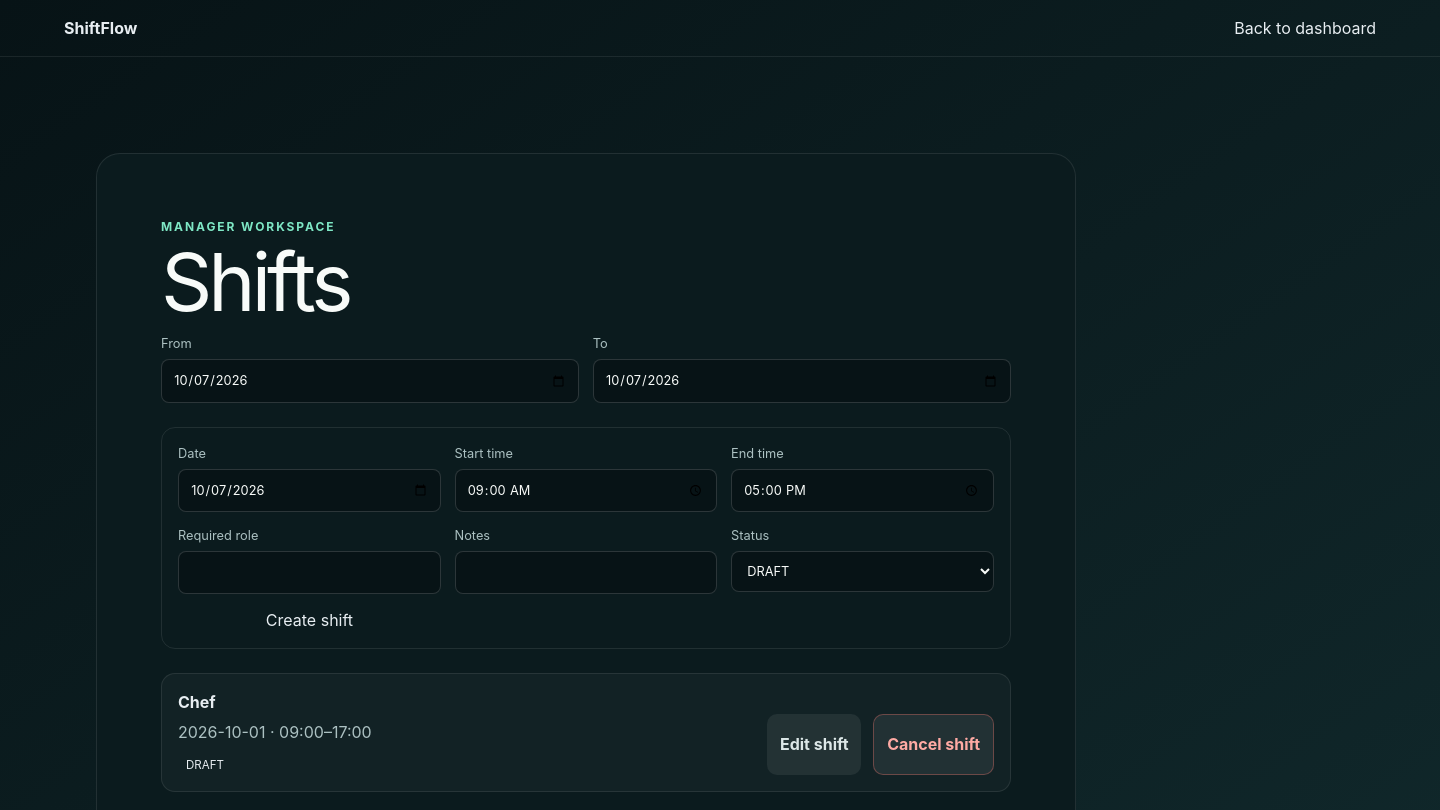
Scenario: shift UI › lets a manager list, create, edit, and cancel shifts
The image size is (1440, 810).
Expected: the heading "Shifts" is shown, [161, 233, 350, 330]
Expected: the text "Chef" is shown, [178, 692, 216, 712]
Type "Supervisor" into the field labelled "Required role".
click(309, 572); type("Supervisor")  # box [178, 551, 441, 594]
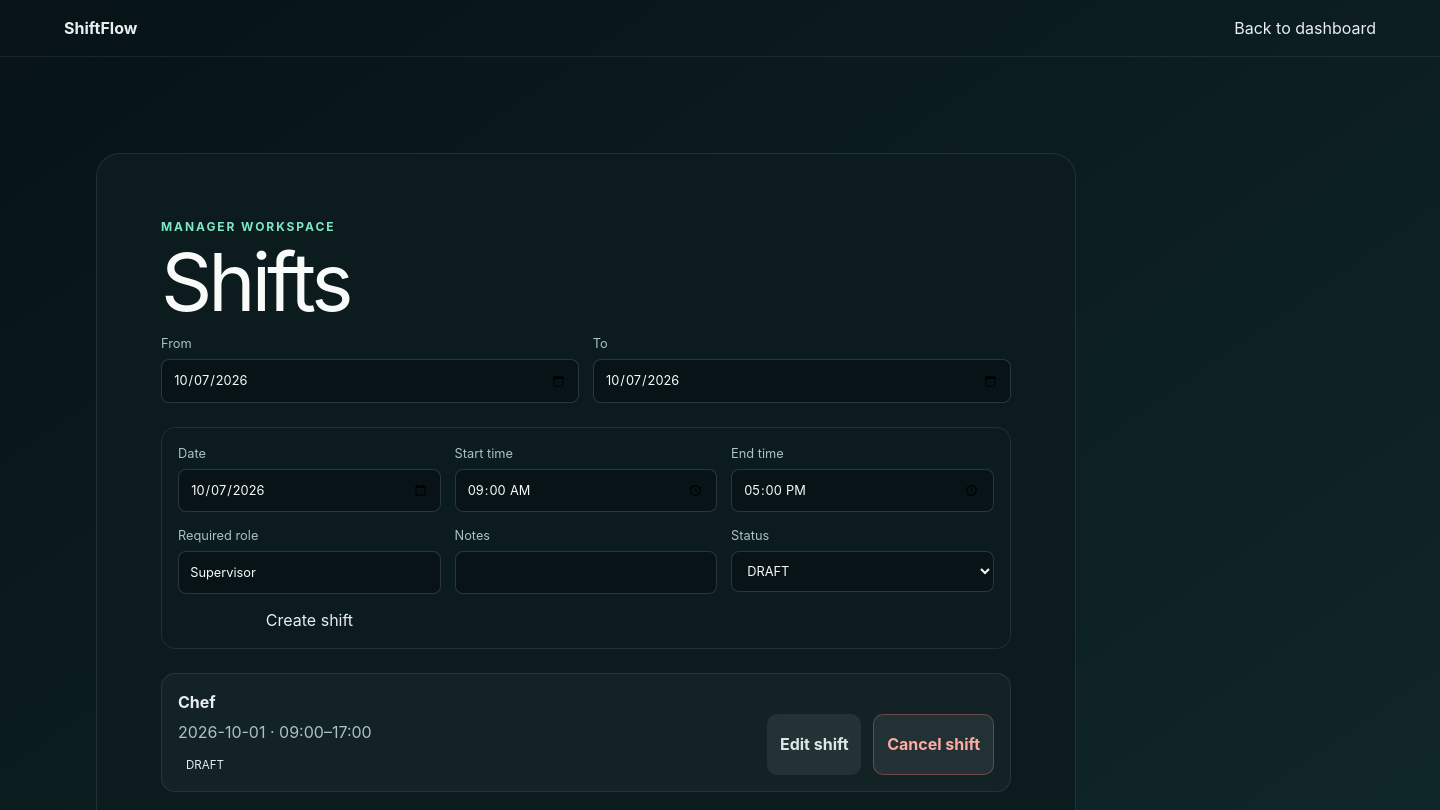
Click the button "Create shift".
click(309, 620)  # box [178, 608, 441, 632]
(page scrolled)
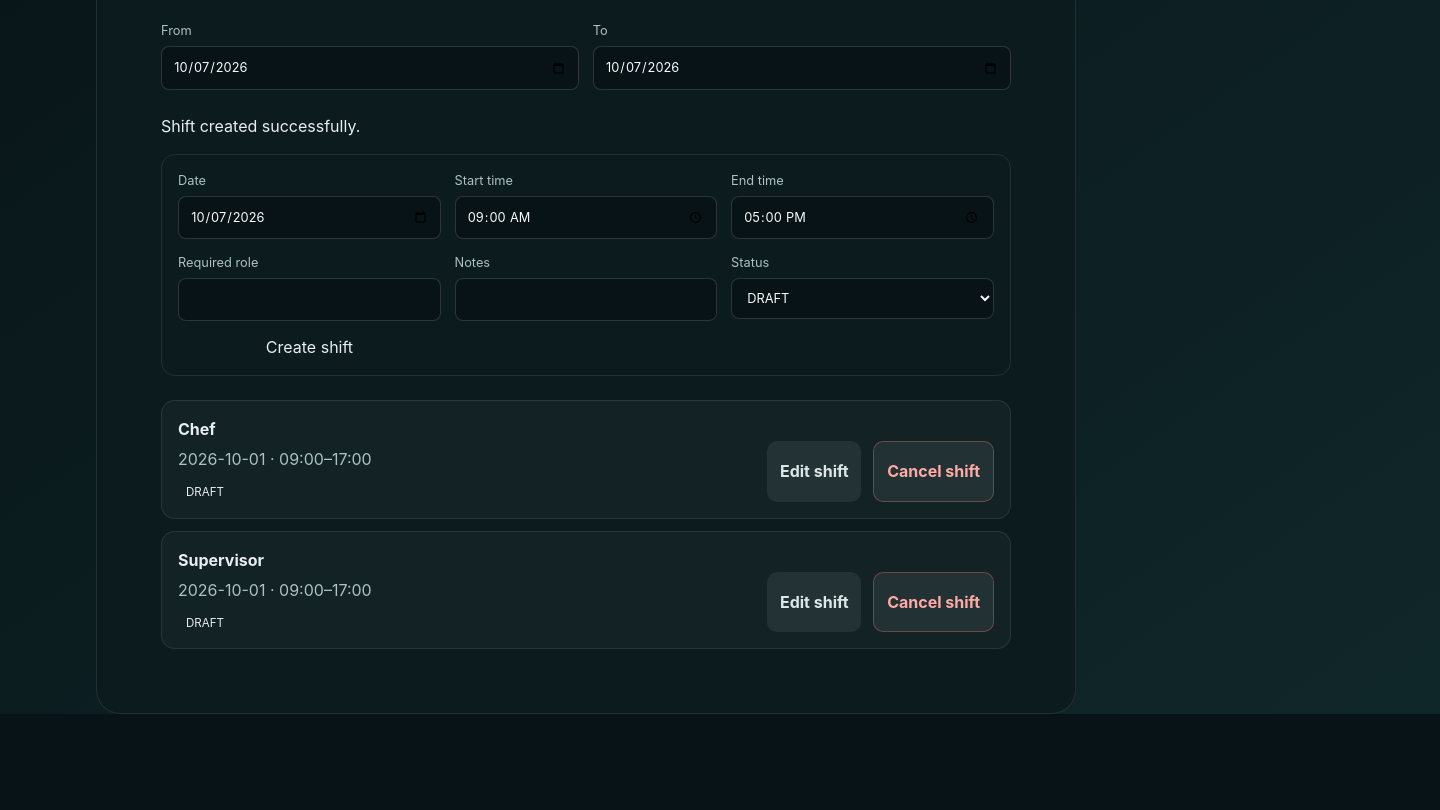
Expected: the text "Shift created successfully." is shown, [161, 116, 360, 136]
Click the 1st button "Edit shift".
click(814, 471)  # box [767, 441, 861, 502]
(page scrolled)
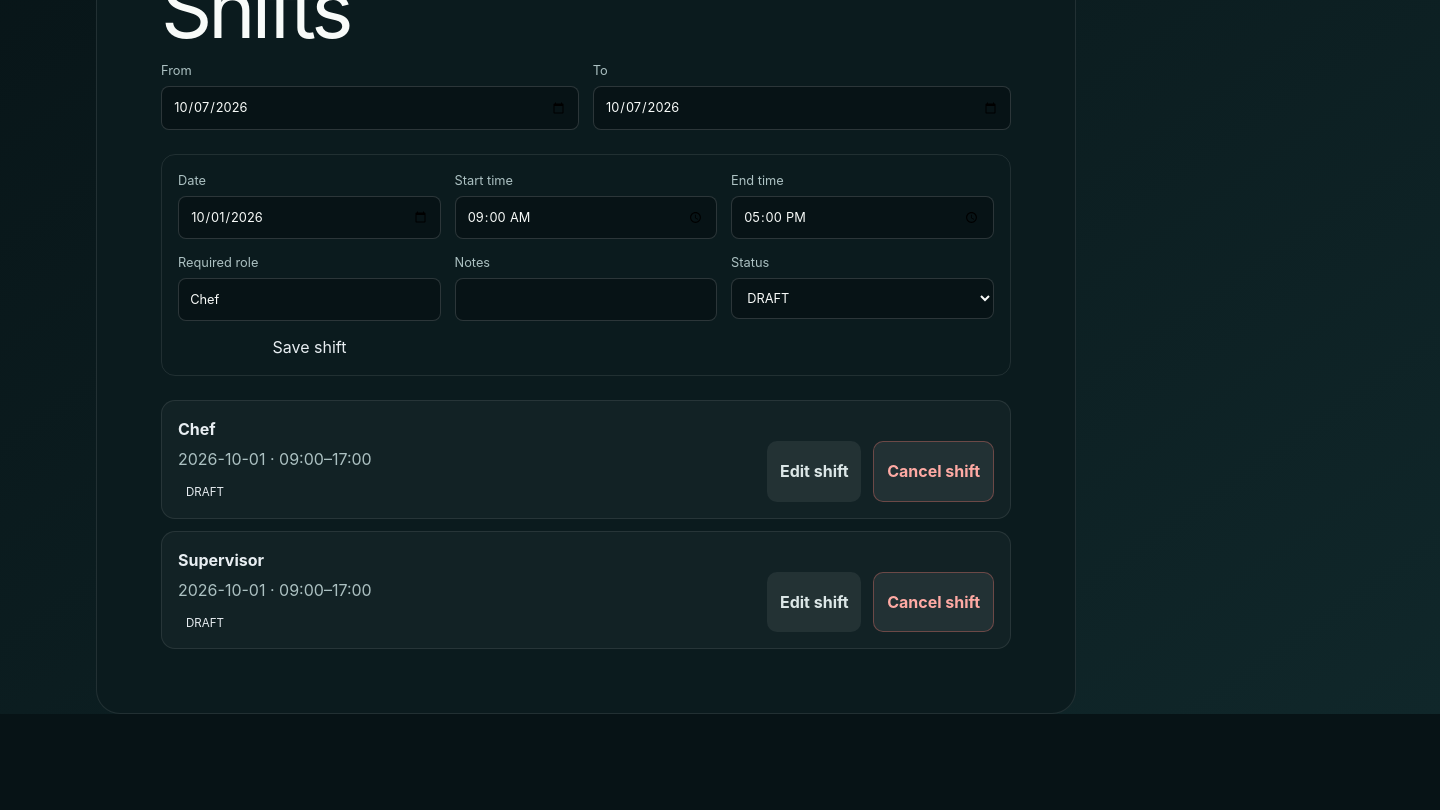
Replace the text in the field labelled "Required role" with "Head Chef" at (309,300), box [178, 278, 441, 321]
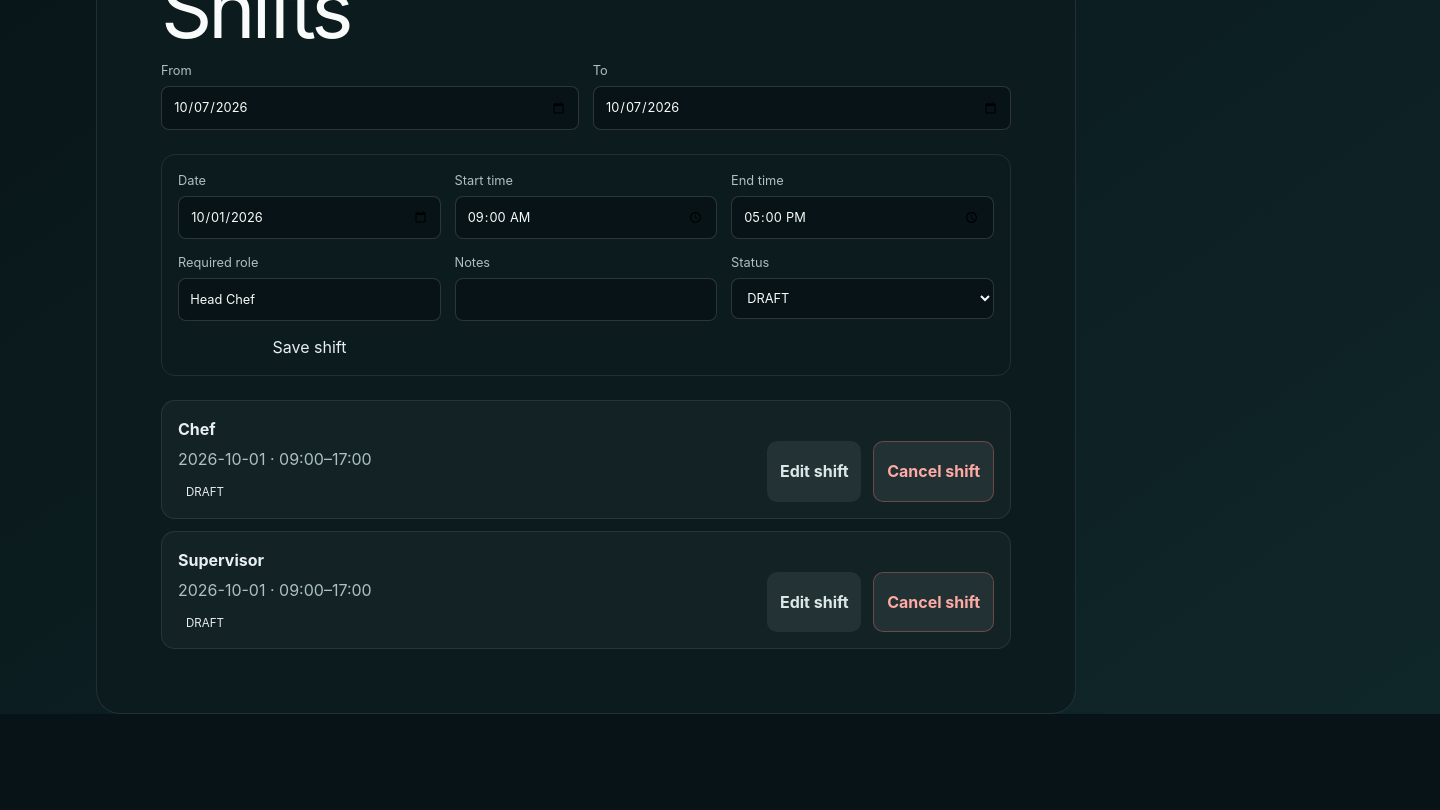
Click the button "Save shift".
click(309, 347)  # box [178, 335, 441, 359]
(page scrolled)
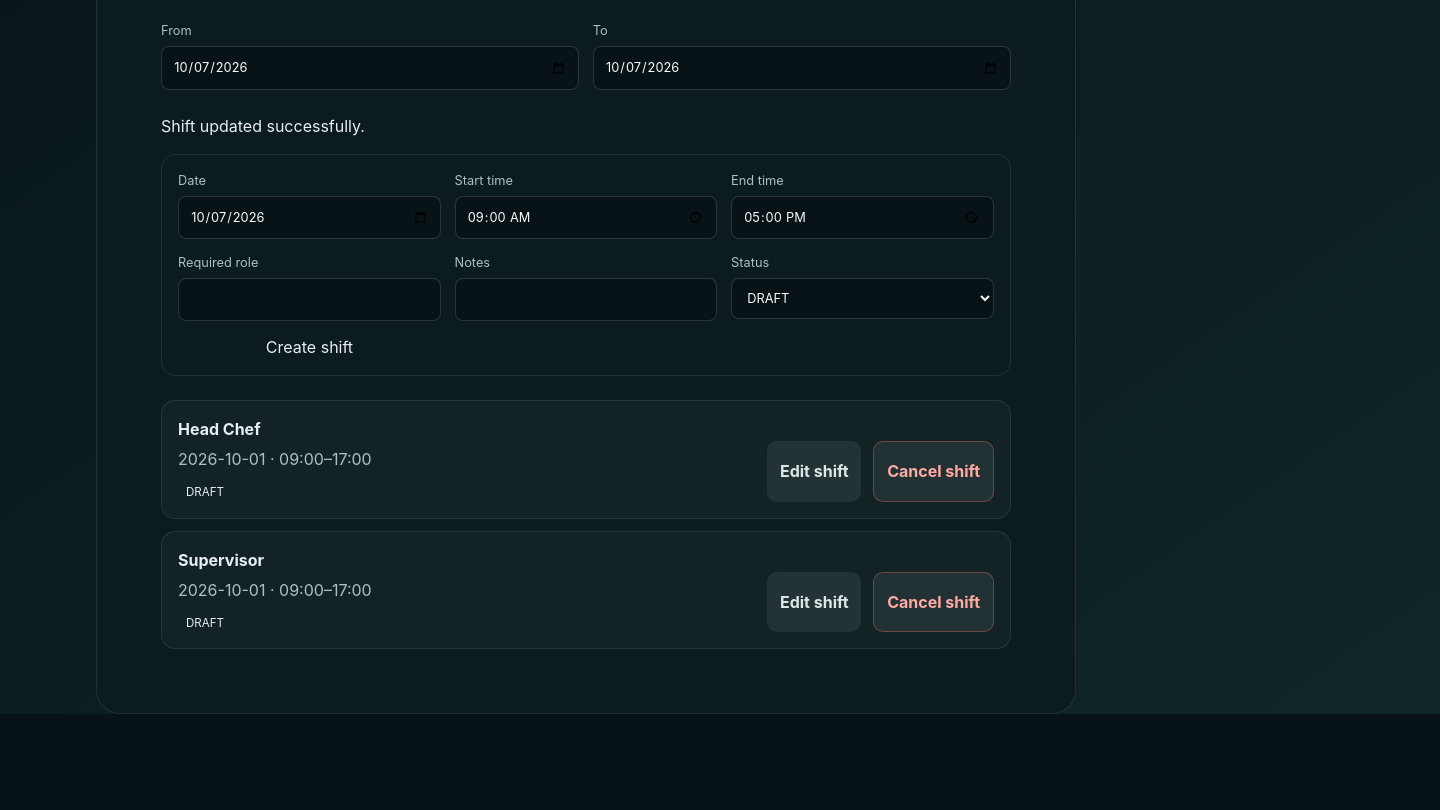
Expected: the text "Shift updated successfully." is shown, [161, 116, 365, 136]
Click the 1st button "Cancel shift".
click(934, 471)  # box [873, 441, 994, 502]
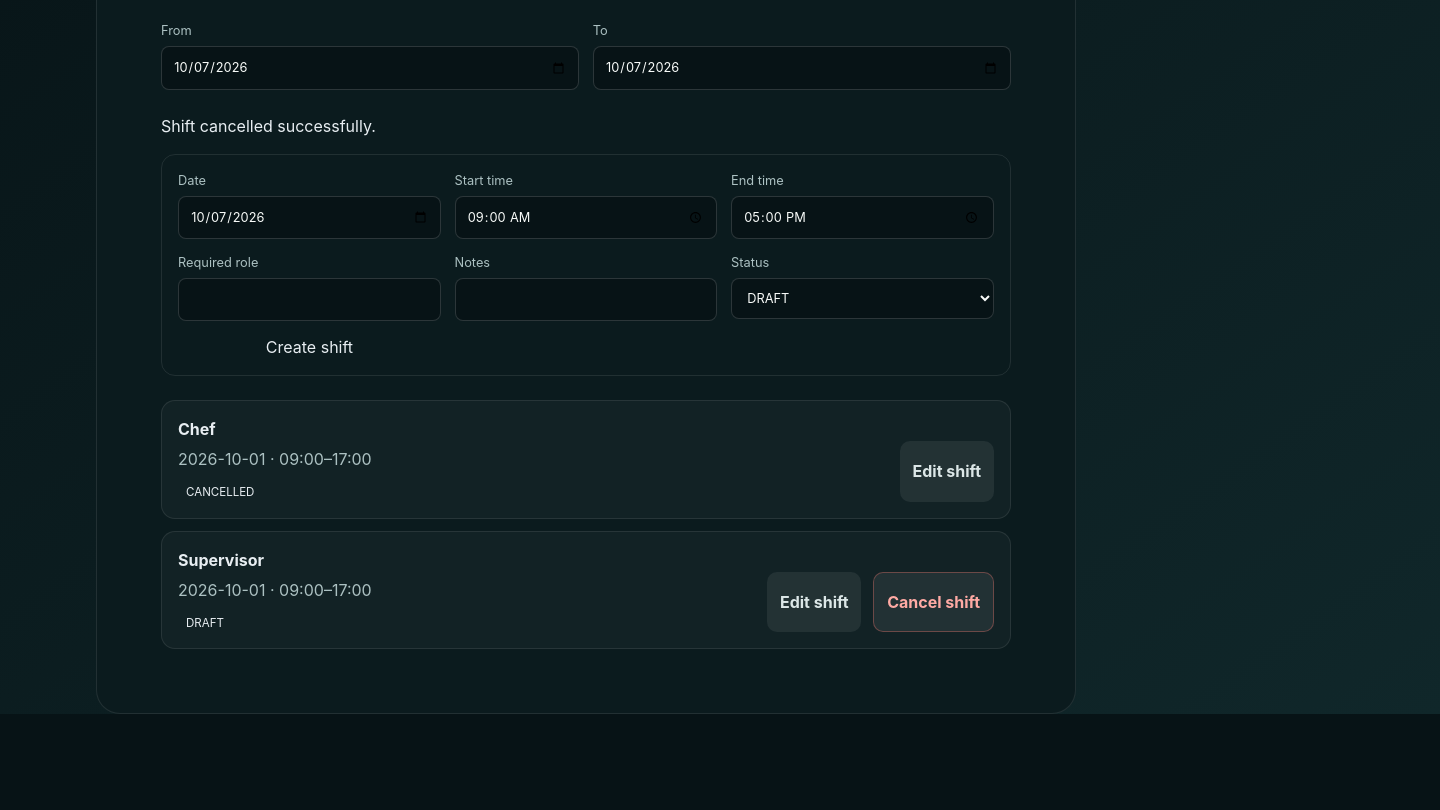
Expected: the text "Shift cancelled successfully." is shown, [161, 116, 376, 136]
